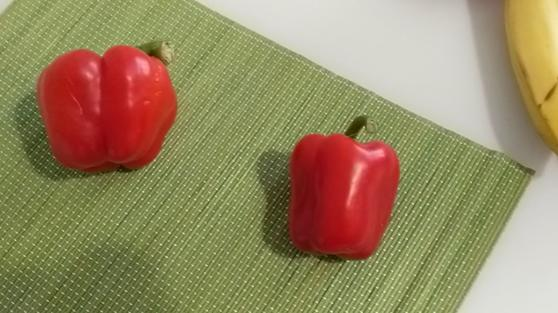pepper: (42, 40, 181, 176), (289, 115, 403, 262)
